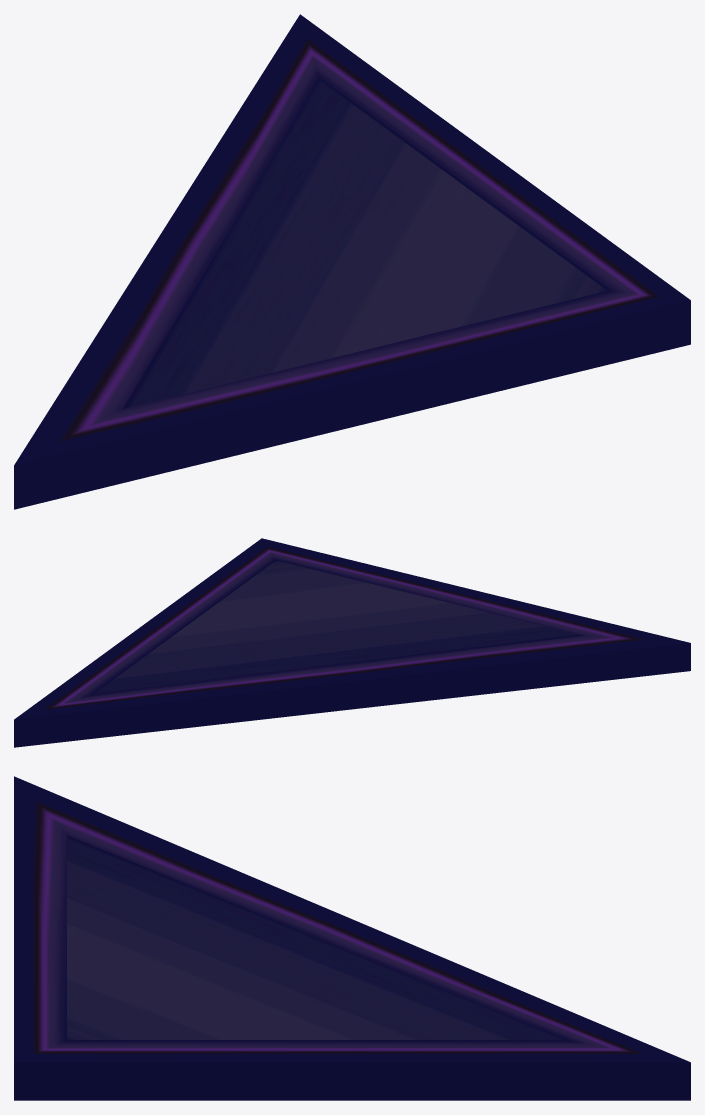
The model's file is urban_half_floor.gltf.
3 views of the same model, one above another, from view 1: azimuth 30°, elevation 25°; view 2: azimuth 150°, elevation 25°; view 3: azimuth 270°, elevation 25° (orthographic). The views are drawn at different scales.
Parts seen in each view (by area): view 1: urban_half_floor_glb; view 2: urban_half_floor_glb; view 3: urban_half_floor_glb.
Part boxes in pixels (bbox=[...]): urban_half_floor_glb: bbox=[14, 14, 690, 509]; urban_half_floor_glb: bbox=[14, 538, 690, 747]; urban_half_floor_glb: bbox=[14, 776, 690, 1100].
Size of what is drawn, in the model's own units: 4 by 0.25 by 4.
Materials: 1 (1 with a texture image).
